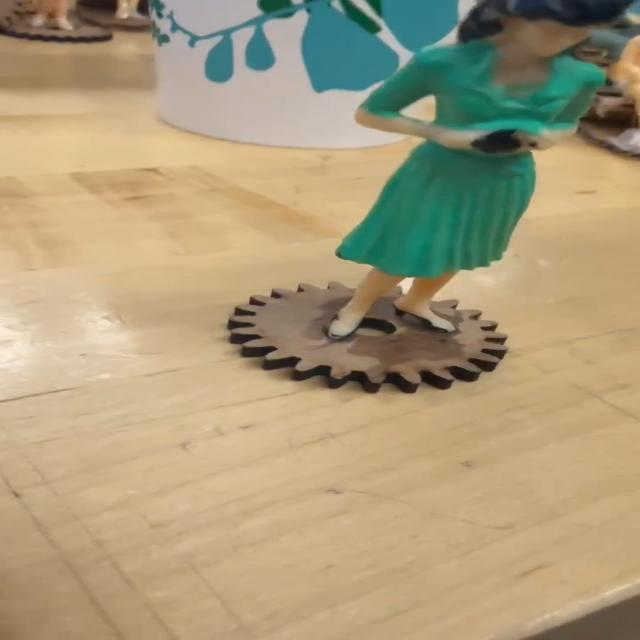Authorized: (339, 2, 618, 334)
